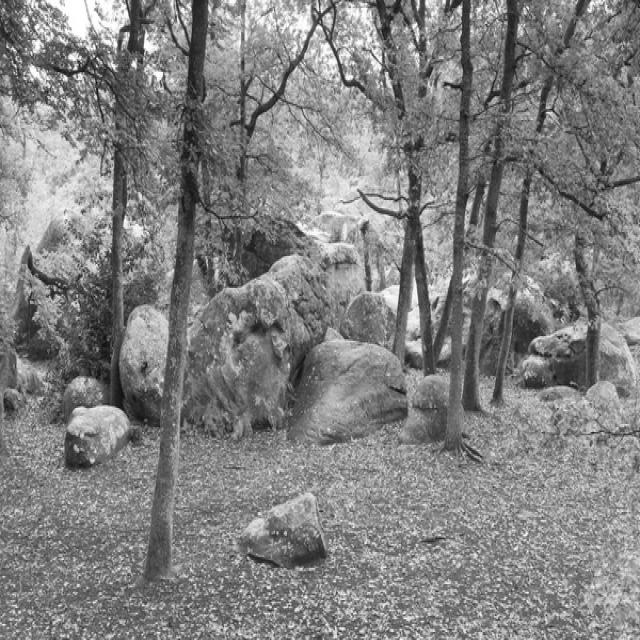Stone: (194, 250, 332, 421), (305, 328, 408, 444), (311, 216, 395, 344), (233, 485, 327, 574), (53, 367, 134, 465), (526, 324, 640, 390), (125, 308, 176, 412), (407, 371, 447, 449)
